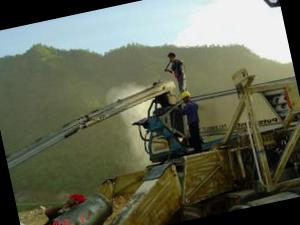no_helmet: (166, 48, 178, 61)
